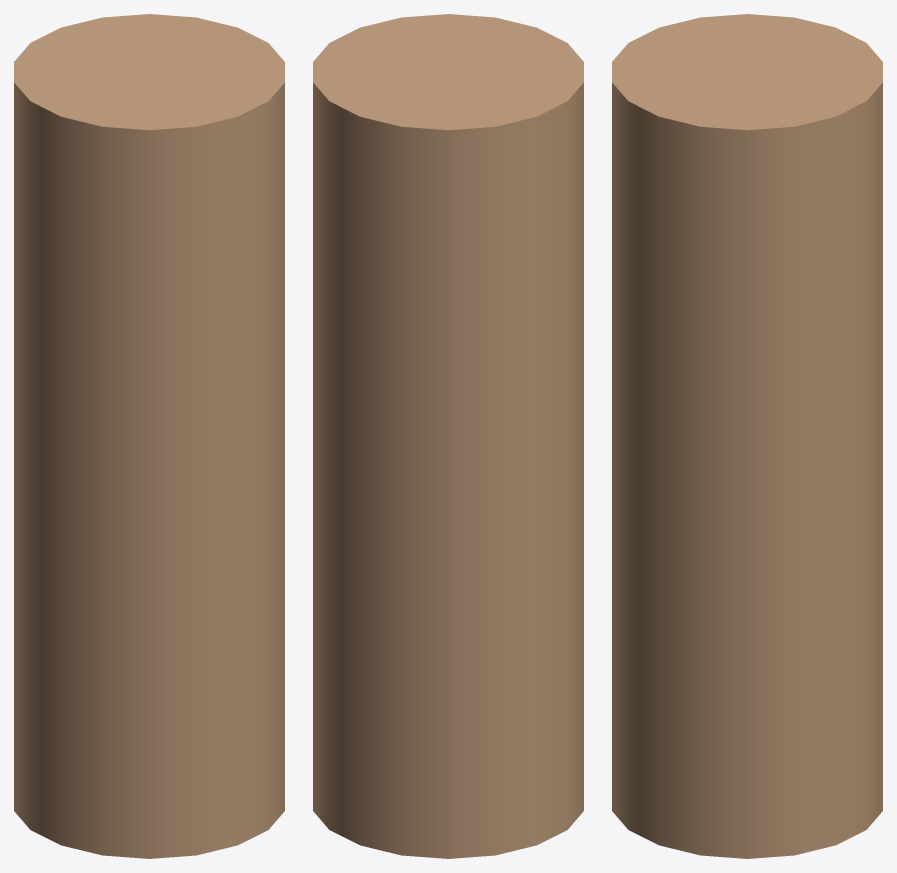
3 views of the same model, side by side, from view 1: azimuth 30°, elevation 25°; view 2: azimuth 150°, elevation 25°; view 3: azimuth 270°, elevation 25° (orthographic).
Parts seen in each view (by area): view 1: Cylinder001; view 2: Cylinder001; view 3: Cylinder001.
Part boxes in pixels (x1,y1,x2,y2): Cylinder001: (14,14,284,858); Cylinder001: (313,14,583,858); Cylinder001: (612,14,882,858).
Size of the model in its own units: 27.89 by 81.48 by 27.46.
